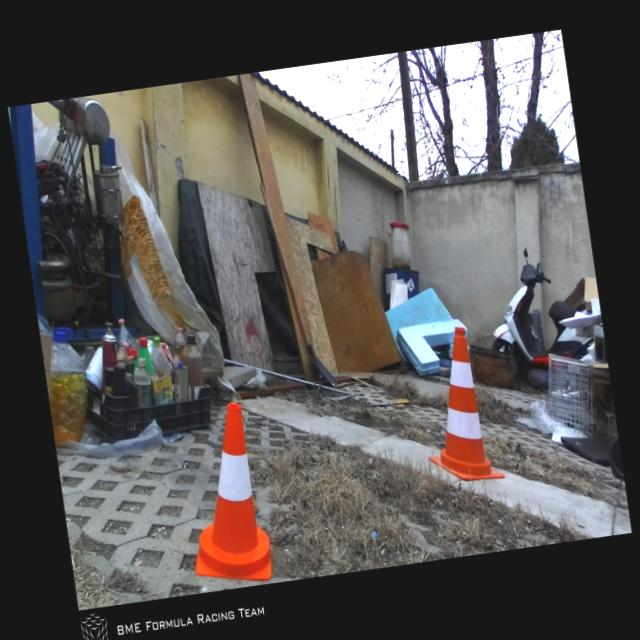large_orange_cone: (411, 323, 505, 488)
orange_cone: (173, 400, 275, 590)
